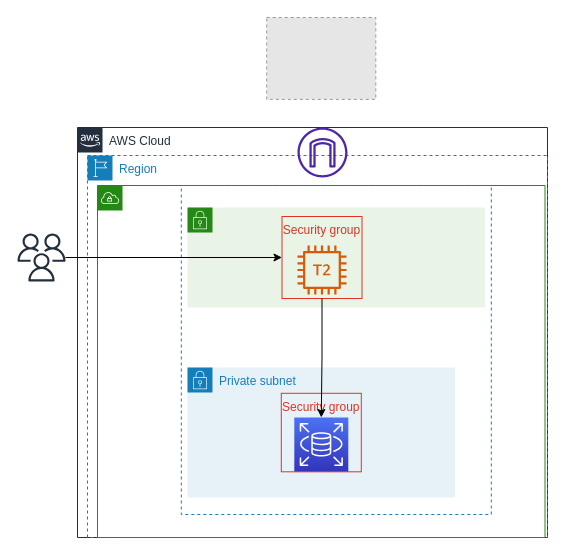
The diagram is 565 pixels wide and 555 high, and some of its shapes have lost their labels. Grey dashed boxes stand in for pictures. Here are the shapes that lost their labels. From the top down, the box of each, then its label:
(186, 206, 485, 308): Public subnet
(96, 184, 545, 538): VPC
(180, 184, 491, 514): Availability Zone
